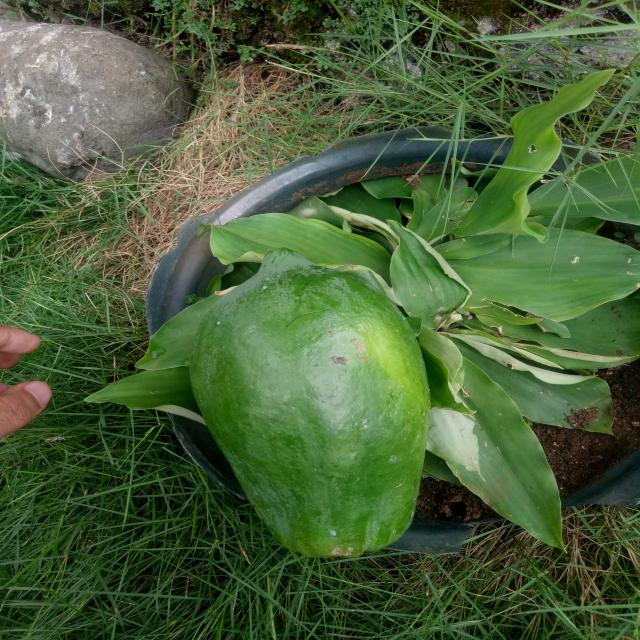Pepaya unrippen: (186, 247, 431, 563)
